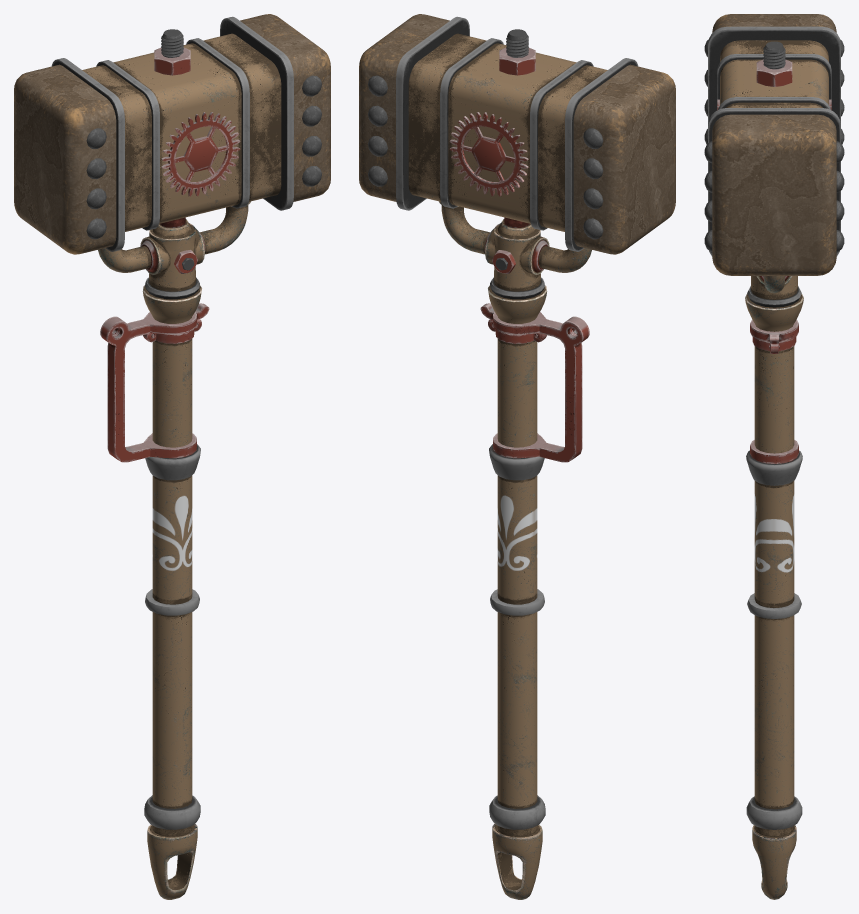
File: SteamPunkHammer.obj
The picture shows the model from 3 angles, left to right: view 1: azimuth 30°, elevation 25°; view 2: azimuth 150°, elevation 25°; view 3: azimuth 270°, elevation 25°; orthographic projection.
Parts seen in each view (by area): view 1: Cylinder.063; view 2: Cylinder.063; view 3: Cylinder.063.
Part boxes in pixels (box(x1,y1,x2,y2)): Cylinder.063: box(14, 14, 330, 899); Cylinder.063: box(359, 14, 675, 899); Cylinder.063: box(704, 14, 844, 899).
Bounding box in the file's own units: 2.27 × 7.05 × 1.05.
